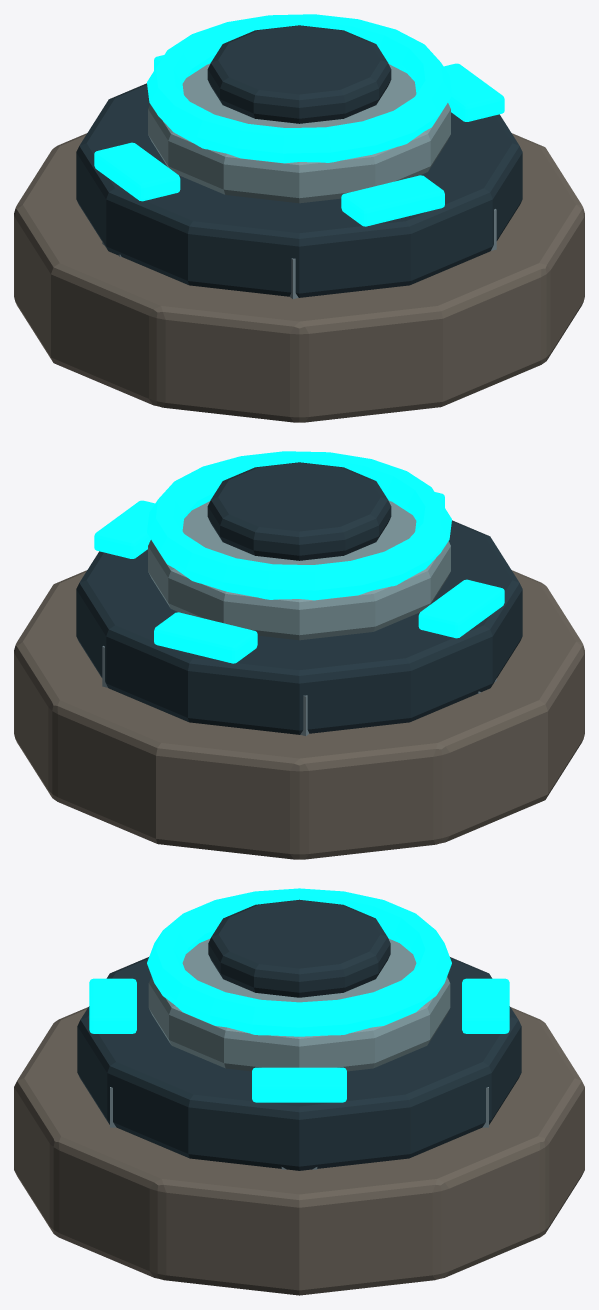
The model's file is Core-Pedestal.glb.
3 views of the same model, one above another, from view 1: azimuth 30°, elevation 25°; view 2: azimuth 150°, elevation 25°; view 3: azimuth 270°, elevation 25° (orthographic).
Visible parts, largest first — view 1: Pedestal_StoneBase, Pedestal_MetalBase, Pedestal_GlowRing, Pedestal_Socket, Pedestal_CoreSocket, Pedestal_Rune_3, Pedestal_Rune_2, Pedestal_Rune_0; view 2: Pedestal_StoneBase, Pedestal_MetalBase, Pedestal_GlowRing, Pedestal_Socket, Pedestal_CoreSocket, Pedestal_Rune_1, Pedestal_Rune_2, Pedestal_Rune_0; view 3: Pedestal_StoneBase, Pedestal_MetalBase, Pedestal_GlowRing, Pedestal_Socket, Pedestal_CoreSocket, Pedestal_Rune_0, Pedestal_Rune_1, Pedestal_Rune_3.
Boxes of the visible parts, left/top/right/bottom form: Pedestal_StoneBase: left=14, top=133, right=584, bottom=422; Pedestal_MetalBase: left=76, top=83, right=522, bottom=297; Pedestal_GlowRing: left=147, top=14, right=451, bottom=163; Pedestal_Socket: left=148, top=63, right=450, bottom=203; Pedestal_CoreSocket: left=207, top=25, right=391, bottom=123; Pedestal_Rune_3: left=341, top=175, right=444, bottom=226; Pedestal_Rune_2: left=94, top=142, right=180, bottom=201; Pedestal_Rune_0: left=444, top=63, right=504, bottom=121; Pedestal_StoneBase: left=14, top=570, right=584, bottom=859; Pedestal_MetalBase: left=76, top=520, right=522, bottom=734; Pedestal_GlowRing: left=147, top=451, right=451, bottom=600; Pedestal_Socket: left=148, top=500, right=450, bottom=640; Pedestal_CoreSocket: left=207, top=462, right=391, bottom=560; Pedestal_Rune_1: left=154, top=612, right=257, bottom=663; Pedestal_Rune_2: left=418, top=579, right=504, bottom=638; Pedestal_Rune_0: left=94, top=500, right=154, bottom=558; Pedestal_StoneBase: left=14, top=1007, right=584, bottom=1295; Pedestal_MetalBase: left=77, top=957, right=521, bottom=1170; Pedestal_GlowRing: left=147, top=888, right=451, bottom=1036; Pedestal_Socket: left=148, top=938, right=450, bottom=1071; Pedestal_CoreSocket: left=208, top=899, right=390, bottom=997; Pedestal_Rune_0: left=252, top=1067, right=346, bottom=1102; Pedestal_Rune_1: left=462, top=978, right=509, bottom=1033; Pedestal_Rune_3: left=89, top=978, right=136, bottom=1033.
Bounding box in the file's own units: 1.44 × 0.68 × 1.44.
